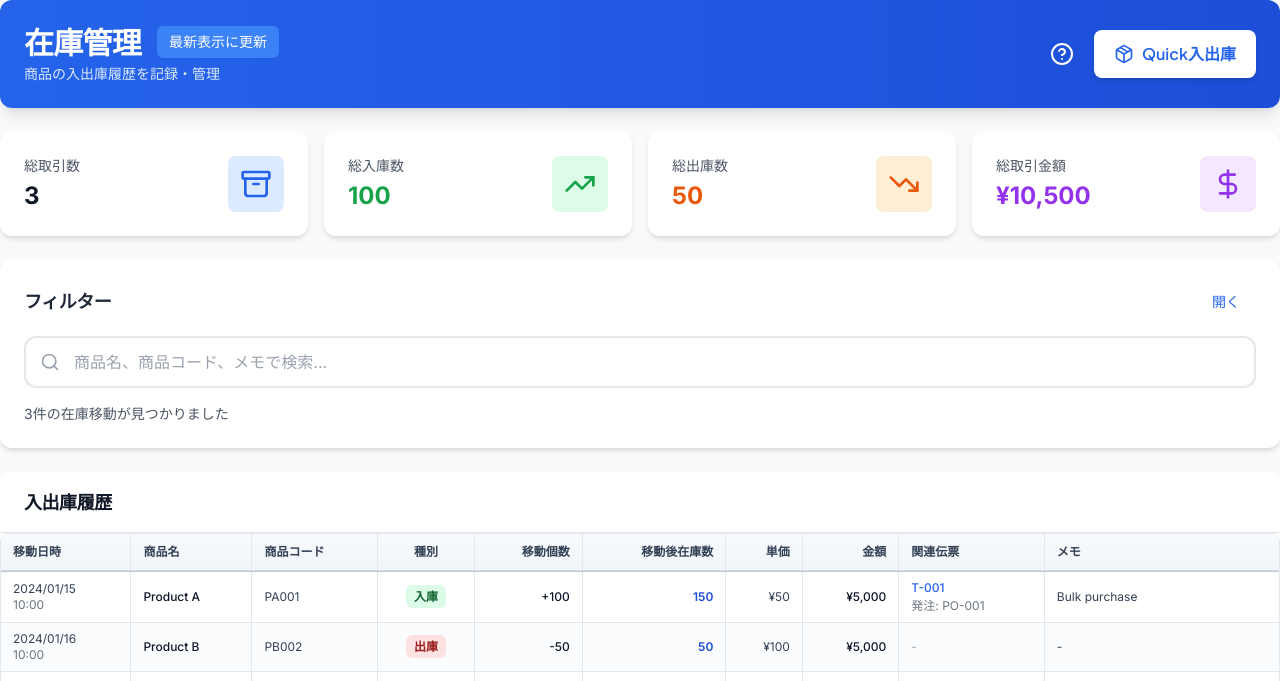
Test: Inventory › Quick Movement Form › should show form when Quick入出庫 button is clicked
The image size is (1280, 681).
Click the button "Quick入出庫". click: (1175, 54)
box: left=1094, top=30, right=1256, bottom=78
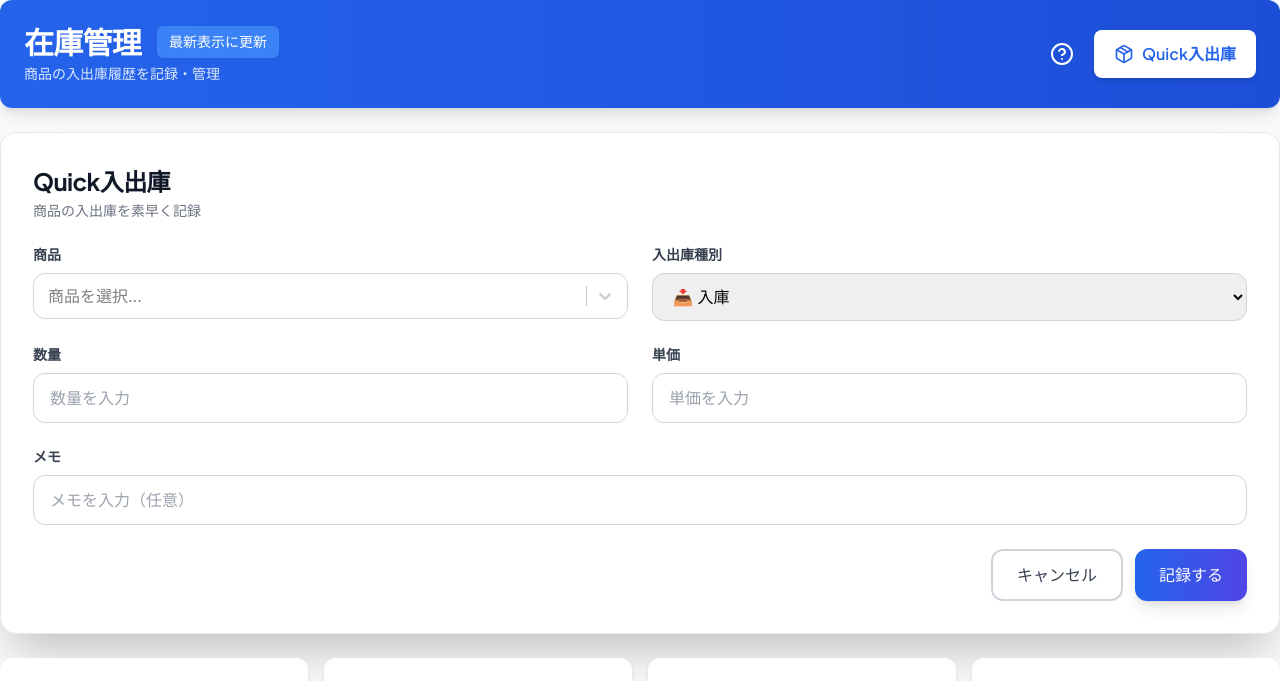
Now the text "商品の入出庫を素早く記録" is shown, box left=33, top=202, right=201, bottom=219
